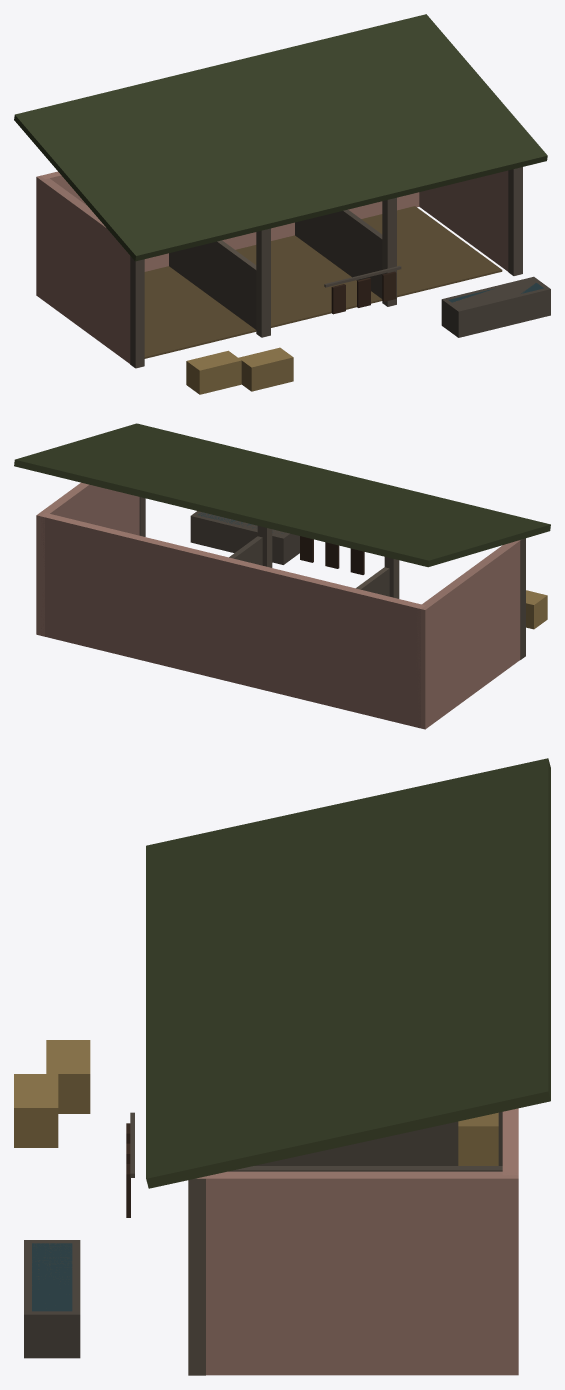
File: walk_reef_stable.glb
3 renders of one model, top to bottom at view 1: azimuth 30°, elevation 25°; view 2: azimuth 150°, elevation 25°; view 3: azimuth 270°, elevation 25°, orthographic. The views are drawn at different scales.
Parts seen in each view (by area): view 1: walk_reef_stable_roof, walk_reef_stable; view 2: walk_reef_stable, walk_reef_stable_roof; view 3: walk_reef_stable_roof, walk_reef_stable.
Part boxes in pixels (x1,y1,x2,y2): walk_reef_stable_roof: (14,14,547,261); walk_reef_stable: (36,167,550,394); walk_reef_stable: (36,482,547,729); walk_reef_stable_roof: (14,423,550,567); walk_reef_stable_roof: (146,758,550,1188); walk_reef_stable: (14,1040,518,1375).
Size of what is drawn, in the model's own units: 9.8 by 4.04 by 6.68.
1 material, 1 textured.
